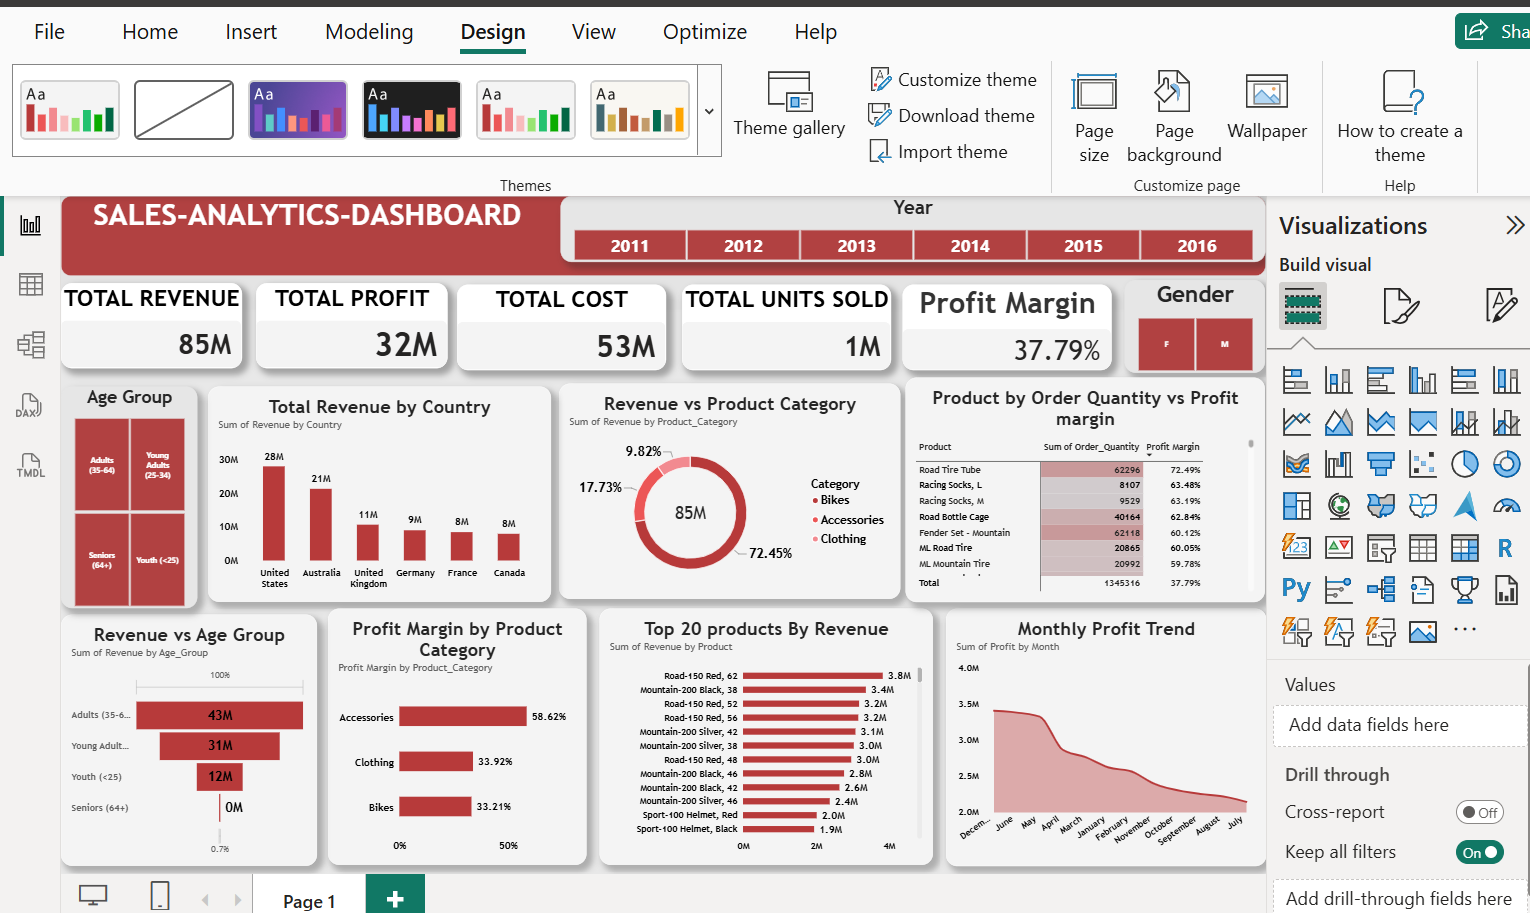

The page's visual inventory and layout, read from the dashboard file:
{"tool":"powerbi","page":{"name":"Page 1","canvas":[1920,1080],"ordinal":0},"visuals":[{"type":"textbox","title":"SALES -ANALYTICS - DASHBOARD ","box":[0,0,1919.1,127.6],"z":0},{"type":"cardVisual","title":"TOTAL REVENUE","fields":{"Data":["Sum(Sales.Revenue)"]},"box":[0,138.4,288.7,136],"z":1},{"type":"cardVisual","title":"TOTAL PROFIT","fields":{"Data":["Sum(Sales.Profit)"]},"box":[310.2,138.4,305.4,136],"z":2},{"type":"cardVisual","title":"TOTAL COST","fields":{"Data":["Sum(Sales.Cost)"]},"box":[629.9,140.8,333.6,136.9],"z":3},{"type":"cardVisual","title":"TOTAL UNITS SOLD","fields":{"Data":["Sum(Sales.Order_Quantity)"]},"box":[990.2,140.8,333.6,136.9],"z":4},{"type":"cardVisual","title":"Profit Margin","fields":{"Data":["Sales.Profit Margin"]},"box":[1340.9,140.8,333.6,136.9],"z":5},{"type":"donutChart","title":"Revenue vs Product Category","fields":{"Category":["Sales.Product_Category"],"Y":["Sum(Sales.Revenue)"]},"box":[796.9,303,544,343.6],"z":6},{"type":"lineStackedColumnComboChart","title":"Total Revenue by Country","fields":{"Category":["Sales.Country"],"Y":["Sum(Sales.Revenue)"]},"box":[233.8,303,546.4,343.6],"z":7},{"type":"barChart","title":"Profit Margin by Product Category","fields":{"Category":["Sales.Product_Category"],"Y":["Sales.Profit Margin"]},"box":[427.1,656.1,427.1,410.4],"z":8},{"type":"funnel","fields":{"Category":["Sales.Age_Group"],"Y":["Sum(Sales.Revenue)"]},"box":[0,665.7,408,400.8],"z":9},{"type":"clusteredBarChart","fields":{"Category":["Sales.Product"],"Y":["Sum(Sales.Revenue)"]},"box":[870.9,656.1,510.6,410.4],"z":10},{"type":"areaChart","fields":{"Category":["Sales.Month"],"Y":["Sum(Sales.Profit)"]},"box":[1410.1,656.1,510.6,410.4],"z":11},{"type":"slicer","fields":{"Values":["Sales.Year"]},"box":[796.9,0,1123.8,126.5],"z":12},{"type":"slicer","fields":{"Values":["Sales.Age_Group"]},"box":[0,303,217.1,353.1],"z":14},{"type":"slicer","fields":{"Values":["Sales.Customer_Gender"]},"box":[1694,126.5,226.7,162.2],"z":15},{"type":"pivotTable","fields":{"Rows":["Sales.Product"],"Values":["Sum(Sales.Order_Quantity)","Sales.Profit Margin"]},"box":[1345.7,288.7,572.6,357.9],"z":16}]}

Visuals, with their boxes on the page's 1920x1080 design canvas (x1, y1, x2, y2). These are canvas units, not pixel positions in the 1530x913 screenshot, which may show the page scaled, cropped or inside an application window:
"SALES -ANALYTICS - DASHBOARD " textbox: l=0, t=0, r=1919, b=128
"TOTAL REVENUE" cardVisual: l=0, t=138, r=289, b=274
"TOTAL PROFIT" cardVisual: l=310, t=138, r=616, b=274
"TOTAL COST" cardVisual: l=630, t=141, r=964, b=278
"TOTAL UNITS SOLD" cardVisual: l=990, t=141, r=1324, b=278
"Profit Margin" cardVisual: l=1341, t=141, r=1674, b=278
"Revenue vs Product Category" donutChart: l=797, t=303, r=1341, b=647
"Total Revenue by Country" lineStackedColumnComboChart: l=234, t=303, r=780, b=647
"Profit Margin by Product Category" barChart: l=427, t=656, r=854, b=1066
funnel - Sales.Age_Group x Sum(Sales.Revenue): l=0, t=666, r=408, b=1066
clusteredBarChart - Sales.Product x Sum(Sales.Revenue): l=871, t=656, r=1382, b=1066
areaChart - Sales.Month x Sum(Sales.Profit): l=1410, t=656, r=1921, b=1066
slicer - Sales.Year: l=797, t=0, r=1921, b=126
slicer - Sales.Age_Group: l=0, t=303, r=217, b=656
slicer - Sales.Customer_Gender: l=1694, t=126, r=1921, b=289
pivotTable - Sales.Product x Sum(Sales.Order_Quantity): l=1346, t=289, r=1918, b=647
